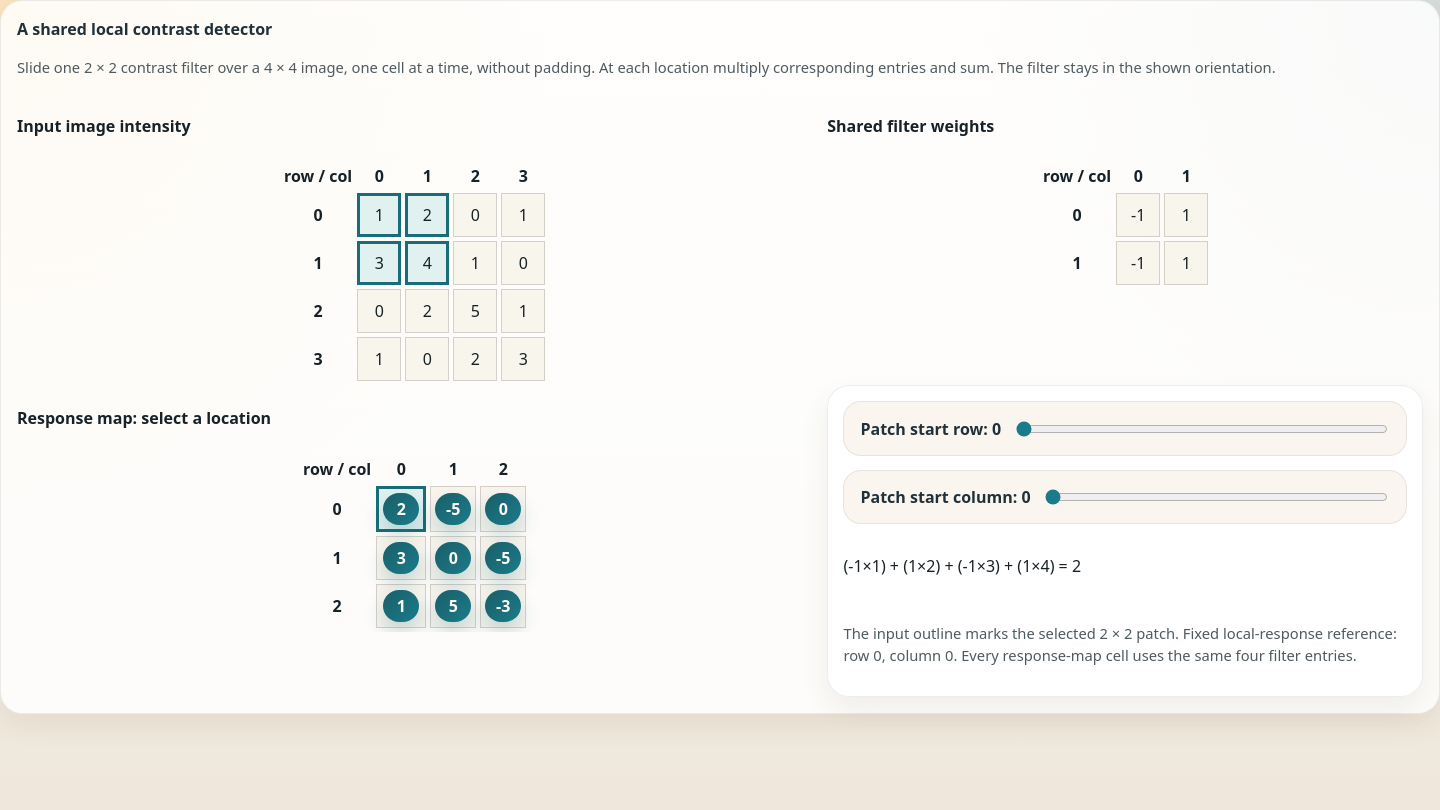
Test: interactive neural mechanisms preserve fixed scored references › selects a filter patch with both grid buttons and range controls
The image size is (1440, 810).
expect the text named "Selected filter calculation" shows "= 2": met, box [844,555,1081,577]
Step 1. Click the button named "Inspect patch row 0 column 1" → (453,509), box [435,493,471,525]
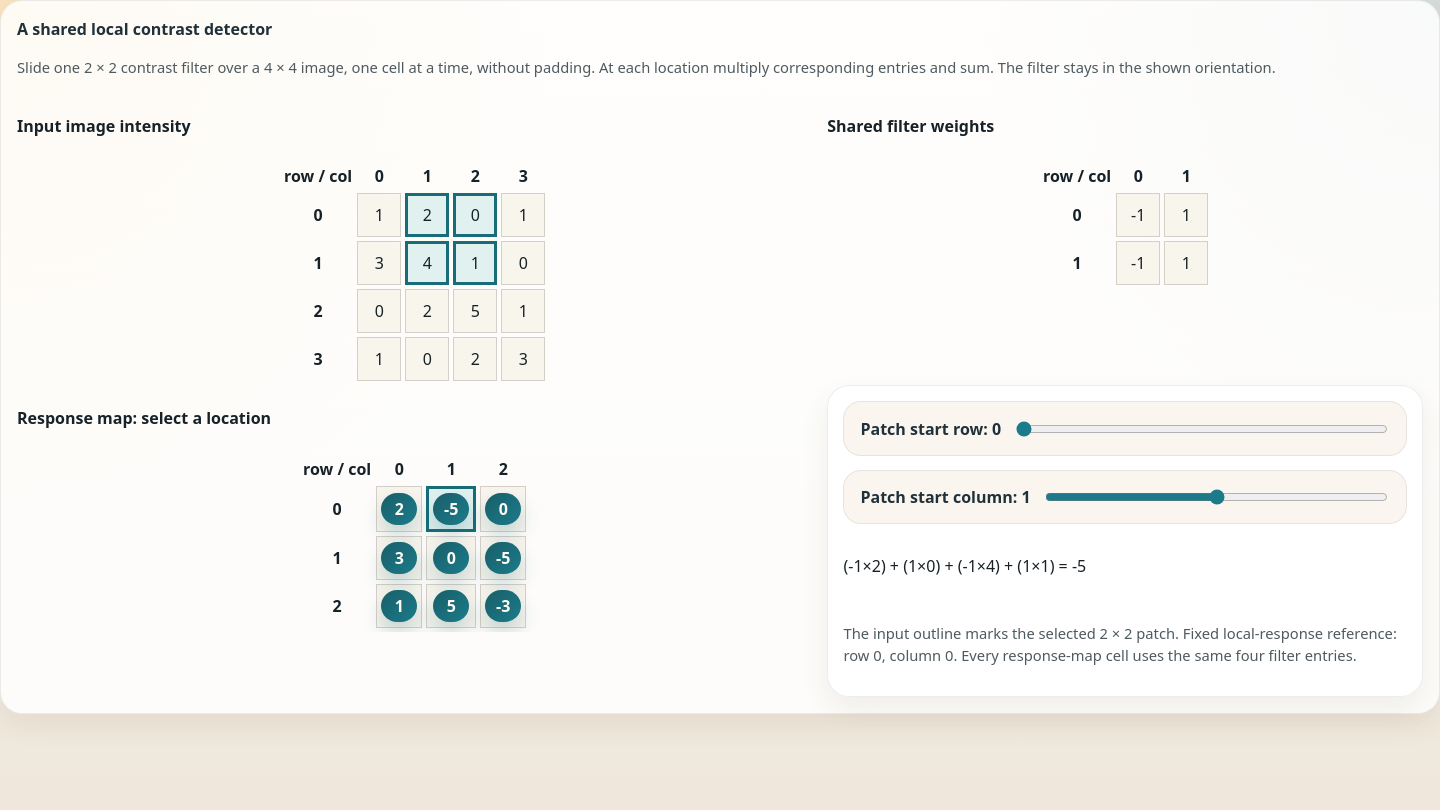
expect the text named "Selected filter calculation" shows "= -5": met, box [844,555,1086,577]
Step 2. Set the slider labelled "Patch start row" to "2" → (1380,429), box [1016,421,1388,437]
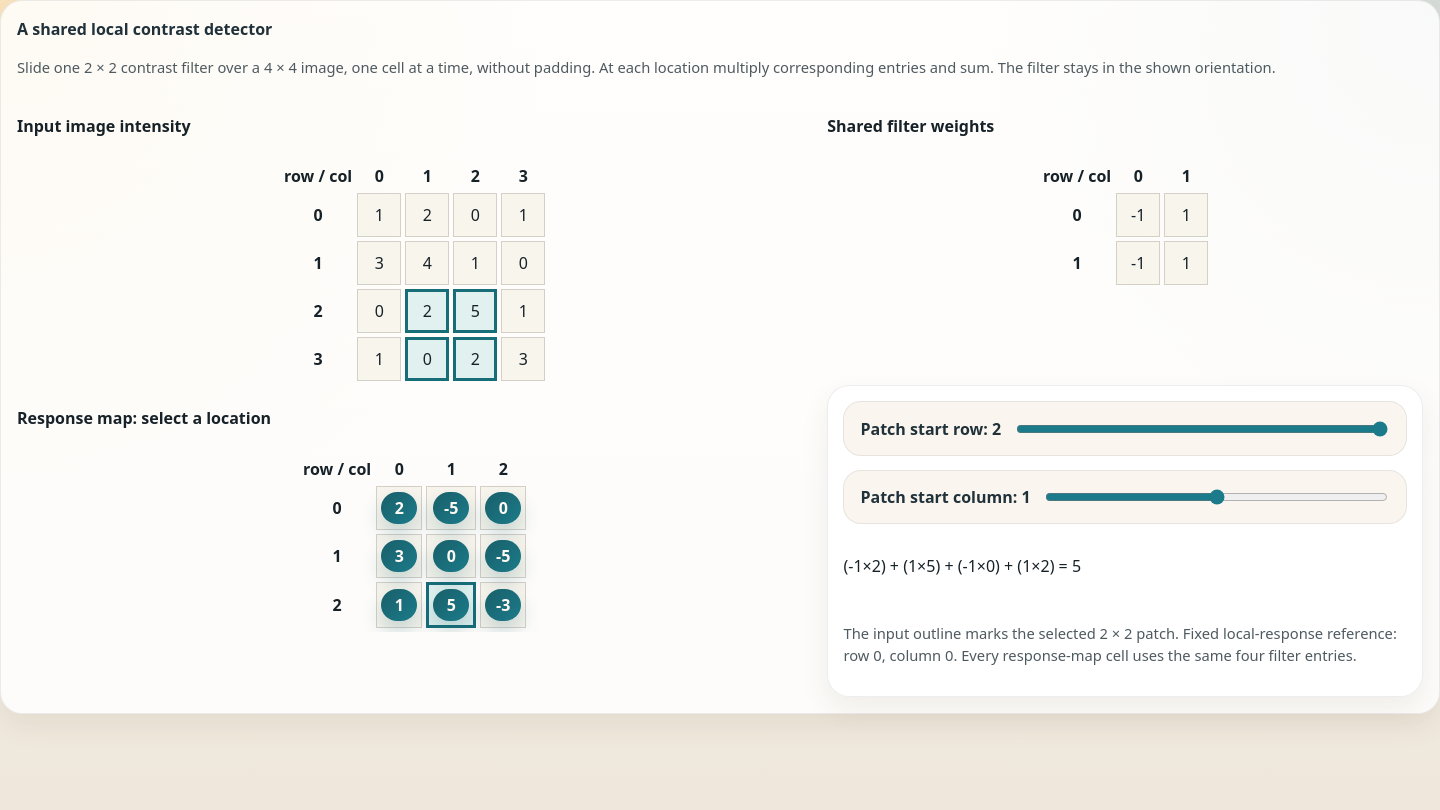
expect the text named "Selected filter calculation" shows "= 5": met, box [844,555,1081,577]
